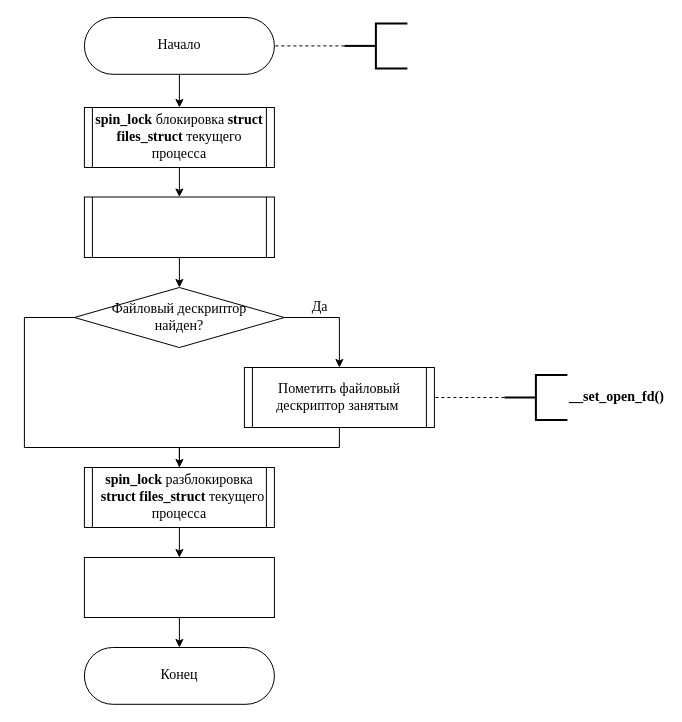
This 682x722 diagram has some shape labels left out. The centre of each missing label's shape, as x and y in pixels:
"static int alloc_fd (unsigned start, end, flags)" goes at (375,45).
"Возврат файлового дескриптора или ошибки" goes at (178,587).
"Поиск свободного файлового дескриптора в таблице открытых дескрипторов процесса" goes at (178,227).
